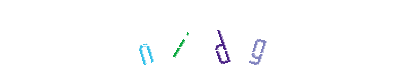D: (172, 0, 252, 80)
G: (182, 0, 262, 80)
I: (169, 0, 249, 80)
N: (139, 0, 219, 80)
